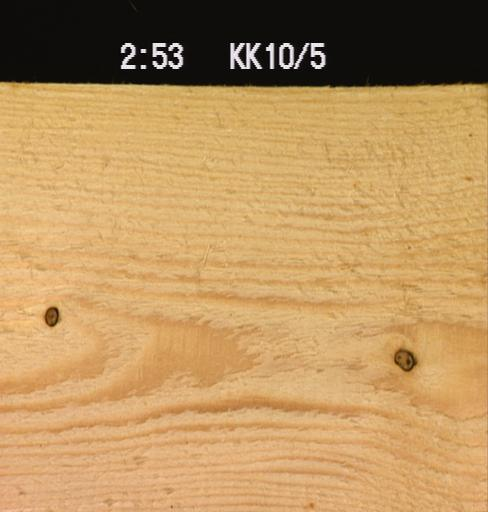dry_knot: (392, 347, 418, 372), (42, 304, 60, 328)
